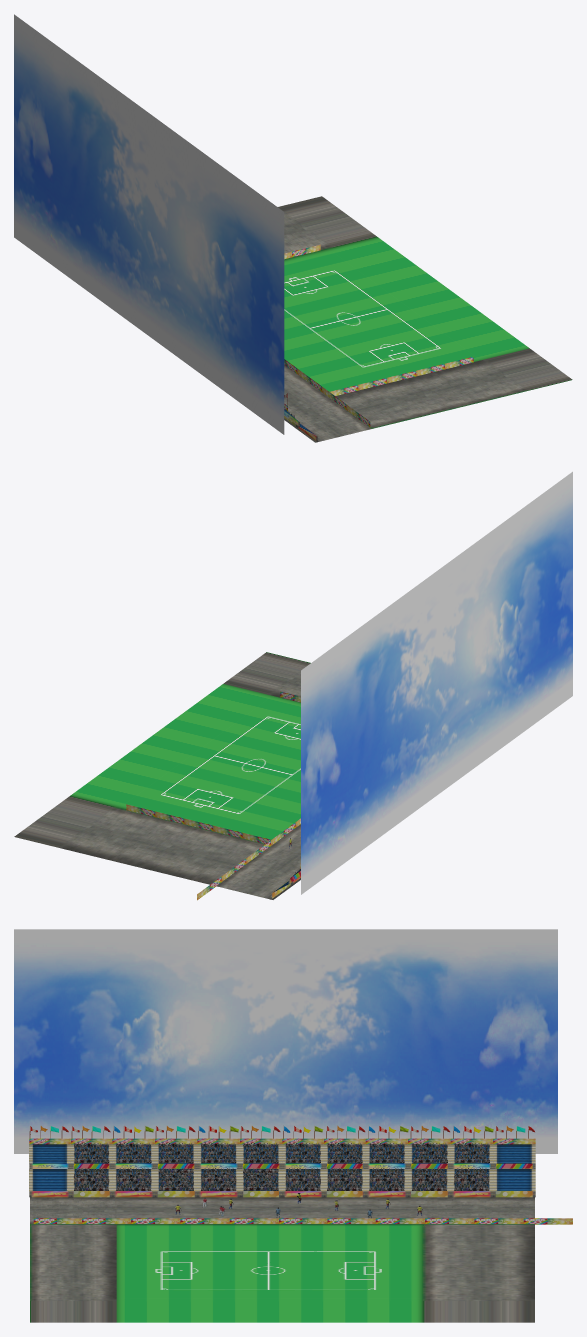
Rendered from zuqiuchang.FBX.
3 views of the same model, one above another, from view 1: azimuth 30°, elevation 25°; view 2: azimuth 150°, elevation 25°; view 3: azimuth 270°, elevation 25° (orthographic).
Visible parts, largest first — view 1: zuqiuchang-tiankong, zuqiuchang-caoping, zuqiuchang-hengfu01; view 2: zuqiuchang-tiankong, zuqiuchang-caoping, zuqiuchang-hengfu01; view 3: zuqiuchang-tiankong, zuqiuchang-caoping, zuqiuchang-hengfu01, zuqiuchang-zuowei01, Object47, Object46, Object25, zuqiuchang-qizi, Object24, Object23, zuqiuchang-qizi01, Object48 (+2 smaller).
Boxes of the visible parts, x1,y1,x2,y2 form: zuqiuchang-tiankong: (14,14,284,434); zuqiuchang-caoping: (278,196,572,442); zuqiuchang-hengfu01: (284,244,473,441); zuqiuchang-tiankong: (301,471,572,894); zuqiuchang-caoping: (14,652,310,899); zuqiuchang-hengfu01: (126,691,300,900); zuqiuchang-tiankong: (14,929,557,1153); zuqiuchang-caoping: (30,1197,534,1322); zuqiuchang-hengfu01: (29,1138,572,1224); zuqiuchang-zuowei01: (29,1144,535,1190); Object47: (285,1147,489,1162); Object46: (285,1142,490,1159); Object25: (285,1168,489,1181); zuqiuchang-qizi: (29,1125,323,1138); Object24: (285,1173,489,1187); Object23: (285,1171,489,1184); zuqiuchang-qizi01: (326,1125,534,1138); Object48: (285,1150,489,1155).
Bounding box in the file's own units: 4920 × 7976 × 3907.
